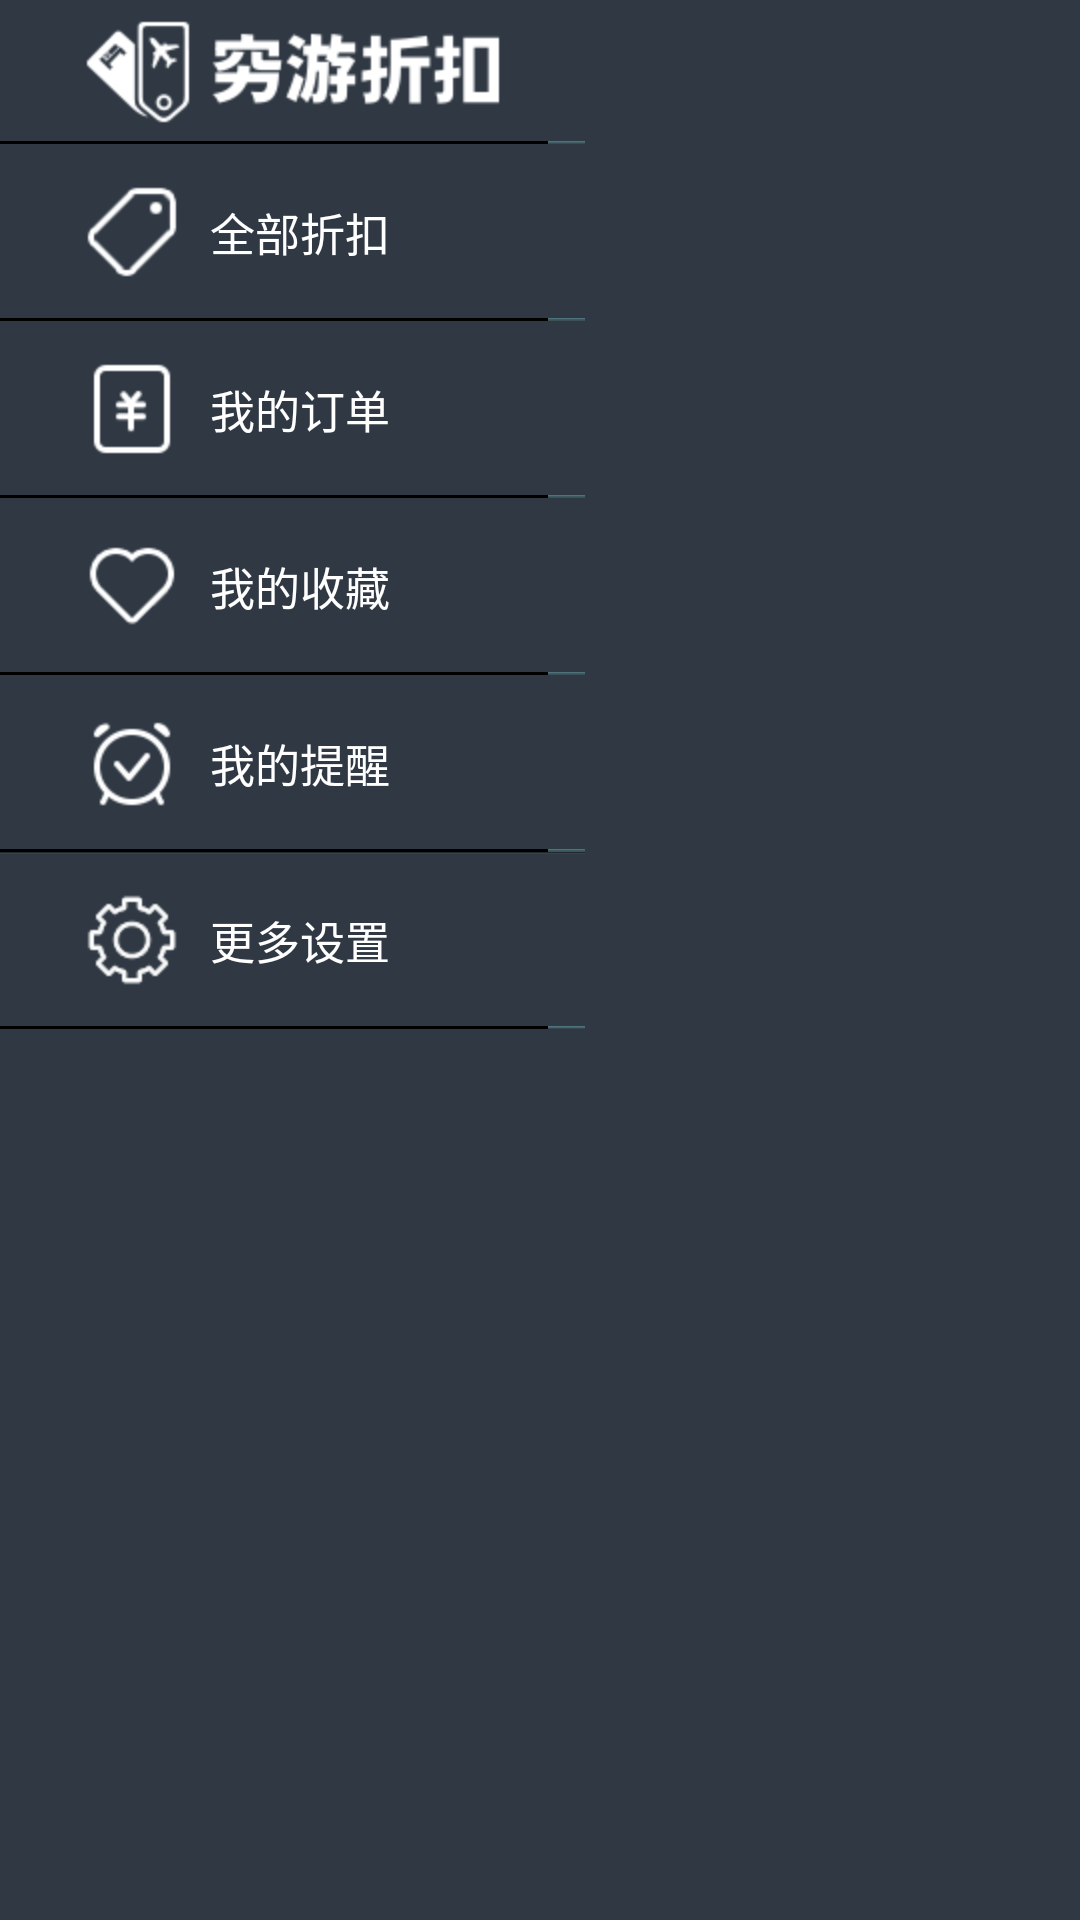

Named icons in this screenshot (1080px x 1920px) and their centers, (x,y):
deal: (132,232)
favor: (132,586)
notifi: (132,764)
order: (132,409)
setting: (132,940)
